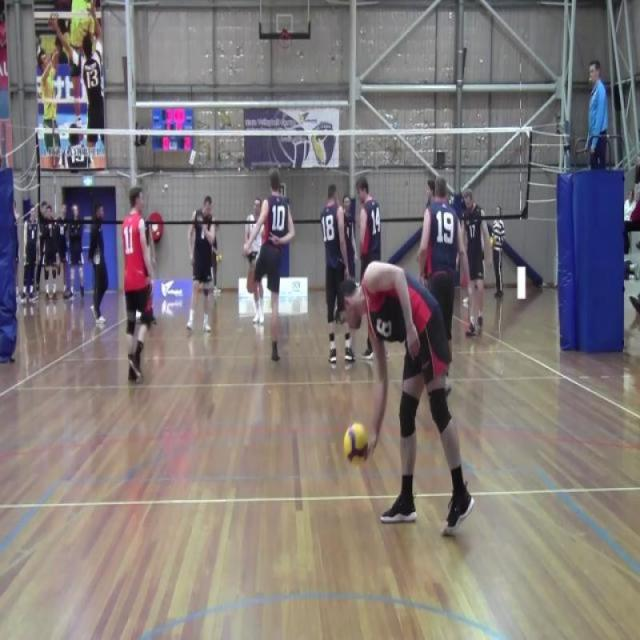volleyball: (340, 418, 372, 470), (214, 252, 223, 266), (488, 234, 496, 249)
